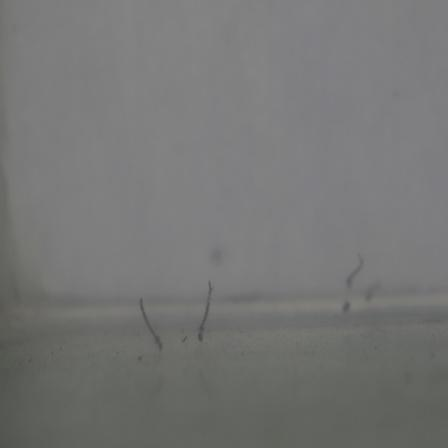Jentik-Nyamuk: (135, 297, 167, 353), (193, 279, 218, 343)
